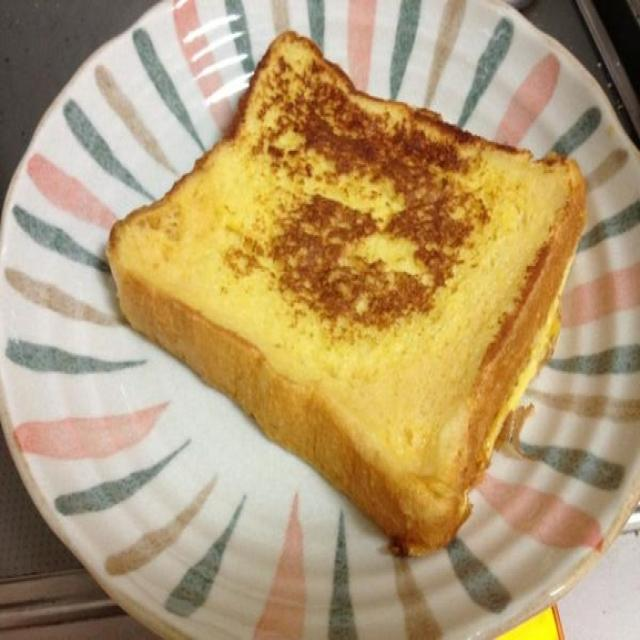面包点心: (71, 18, 606, 572)
